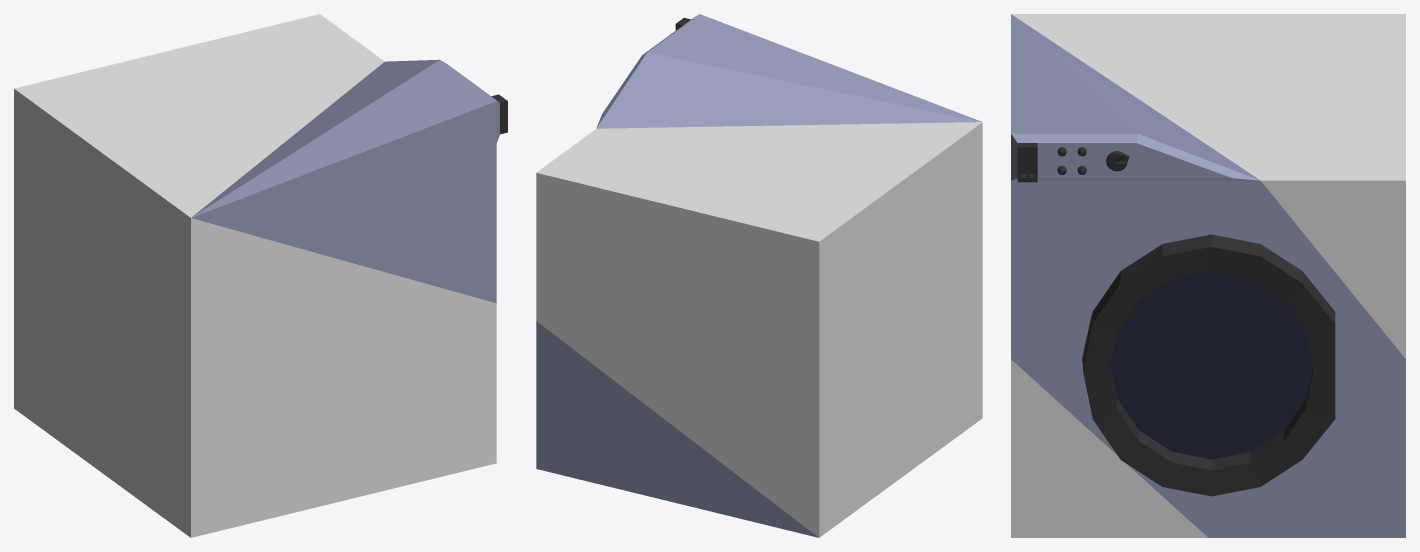
The model's file is Dryer.fbx.
3 views of the same model, side by side, from view 1: azimuth 30°, elevation 25°; view 2: azimuth 150°, elevation 25°; view 3: azimuth 270°, elevation 25° (orthographic). The views are drawn at different scales.
Parts seen in each view (by area): view 1: Dryer; view 2: Dryer; view 3: Dryer, Low_Poly_Door.001, WM_Coinslots.001.
Part boxes in pixels (x1,y1,x2,y2): Dryer: (14,14,499,537); Dryer: (536,14,982,537); Dryer: (1011,14,1405,537); Low_Poly_Door.001: (1083,234,1335,496); WM_Coinslots.001: (1017,143,1037,182).
Bounding box in the file's own units: 113 × 119 × 105.
